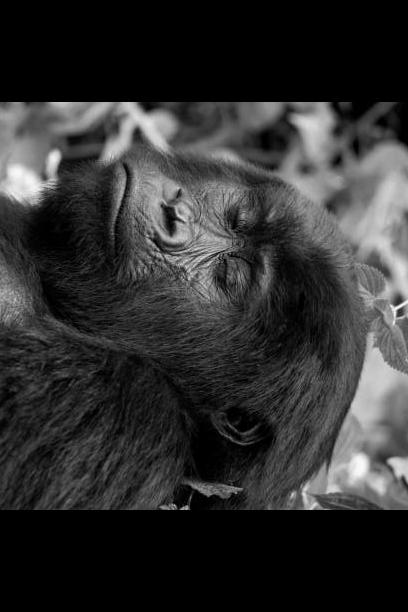goriile_montagne: (0, 123, 379, 510)
